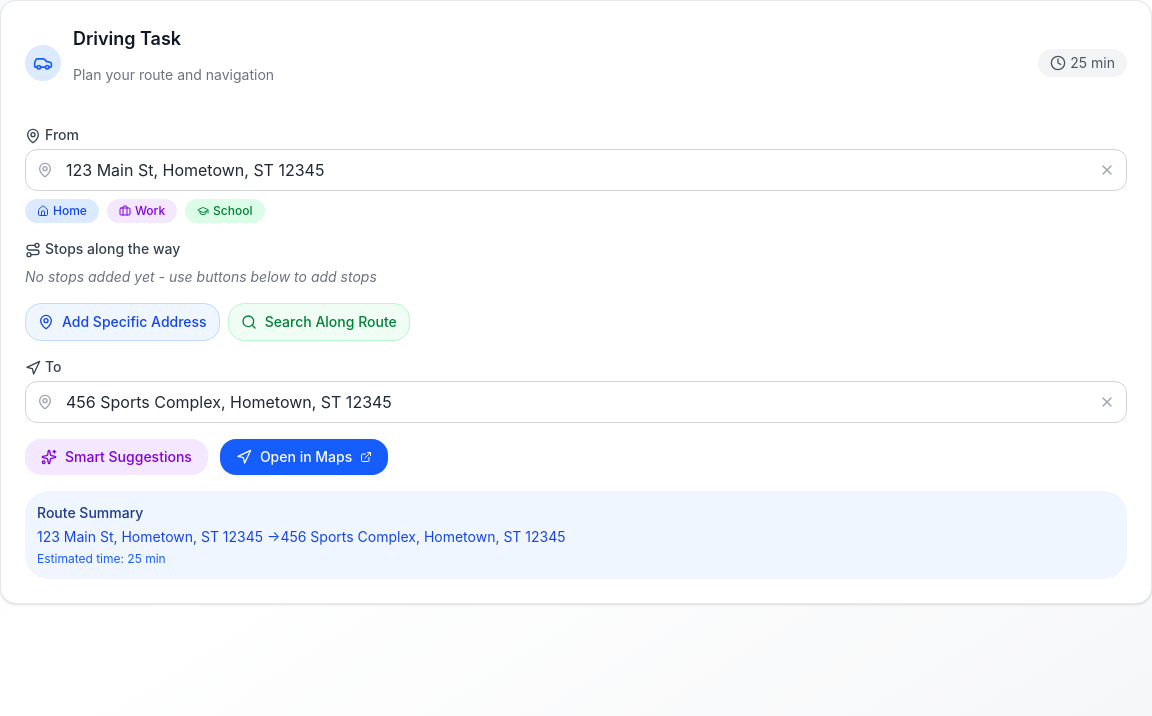
Test: DrivingTaskTemplate › Smart Suggestions › should display categorized suggestions when button is clicked
Click the button "Smart Suggestions" at (116, 457), box [25,439,208,475]
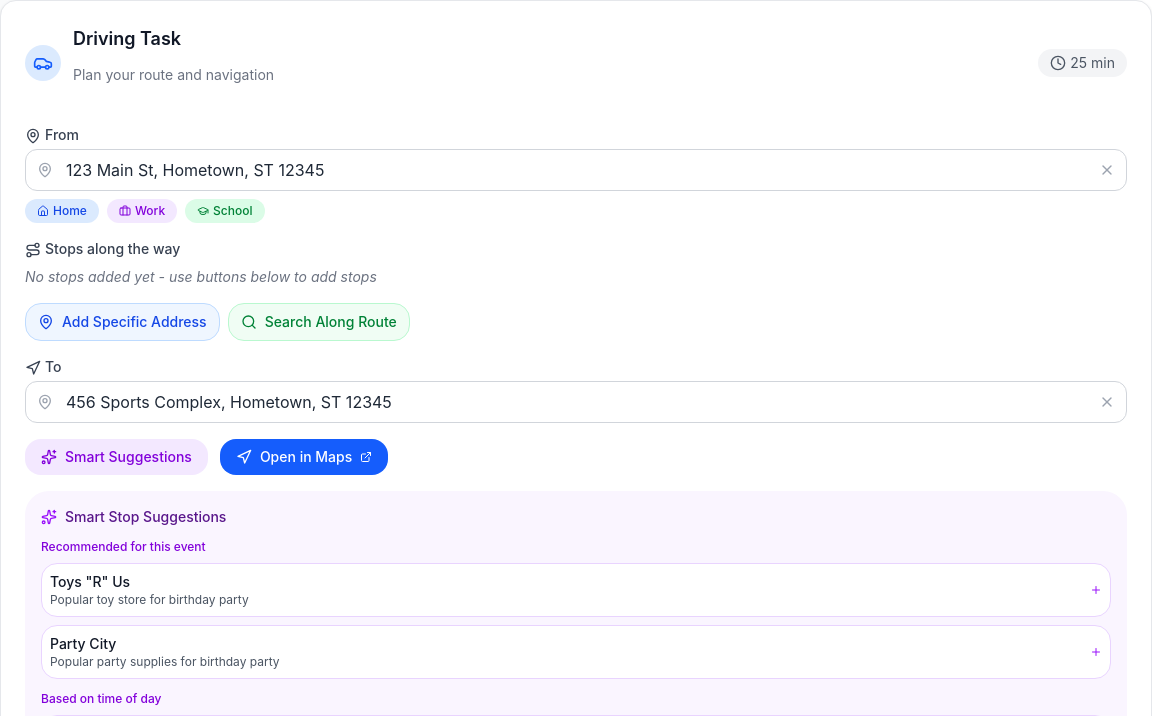
Expected: the text "Smart Stop Suggestions" is shown, [65,507,226,527]
Expected: the text "Recommended for this event" is shown, [41,539,206,554]
Expected: the text "Based on time of day" is shown, [41,691,162,706]
